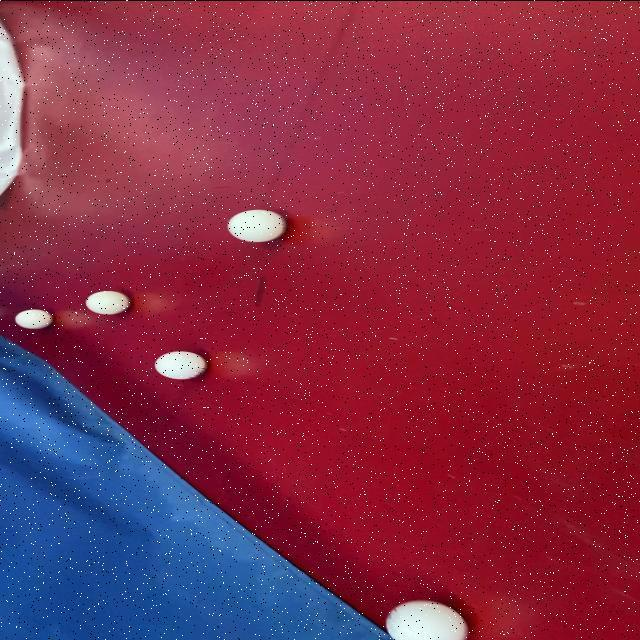ping-pong-ball: (222, 206, 288, 244), (150, 348, 212, 380), (82, 287, 133, 315), (12, 306, 56, 331)
